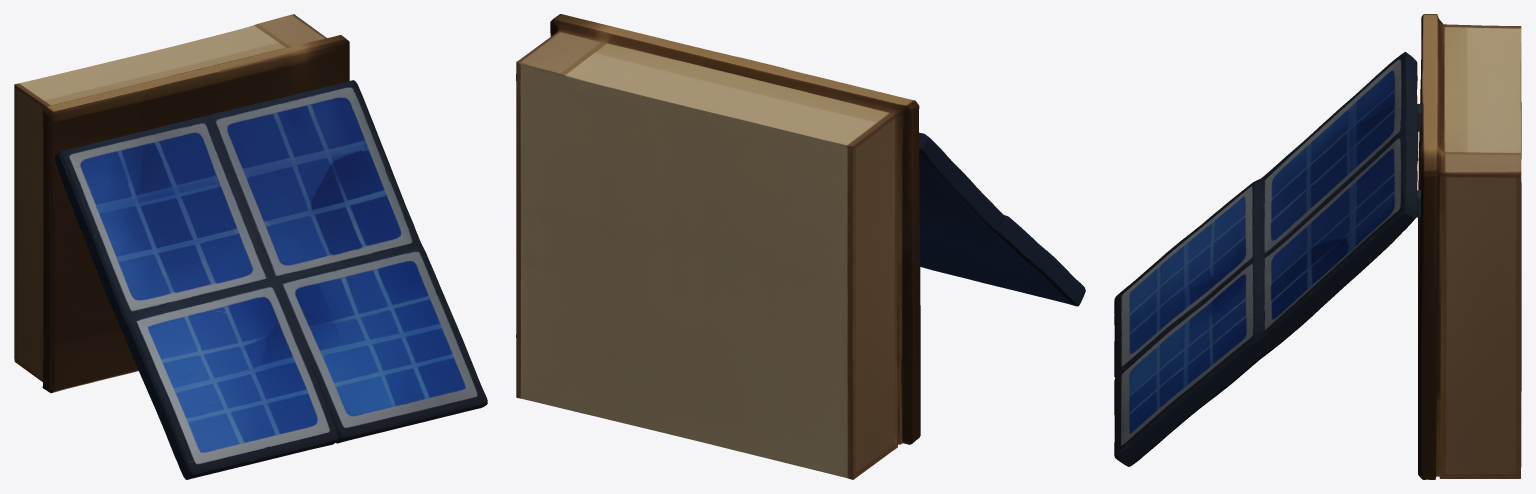
Rendered from Silicio.fbx.
The picture shows the model from 3 angles, left to right: view 1: azimuth 30°, elevation 25°; view 2: azimuth 150°, elevation 25°; view 3: azimuth 270°, elevation 25°; orthographic projection. The views are drawn at different scales.
Visible parts, largest first — view 1: geometry_0.001; view 2: geometry_0.001; view 3: geometry_0.001.
Boxes of the visible parts, x1,y1,x2,y2 form: geometry_0.001: (14,14,487,479); geometry_0.001: (516,14,1085,479); geometry_0.001: (1114,14,1521,479).
Bounding box in the file's own units: 0.288 × 0.2597 × 0.3074.
Materials: 1 (1 with a texture image).
